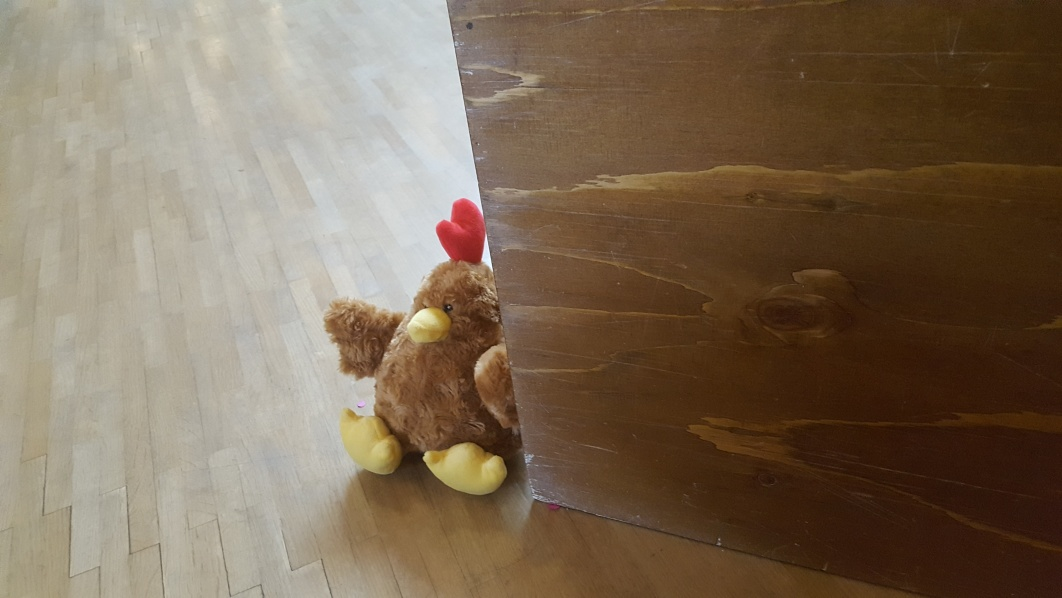chicken: (322, 199, 517, 501)
